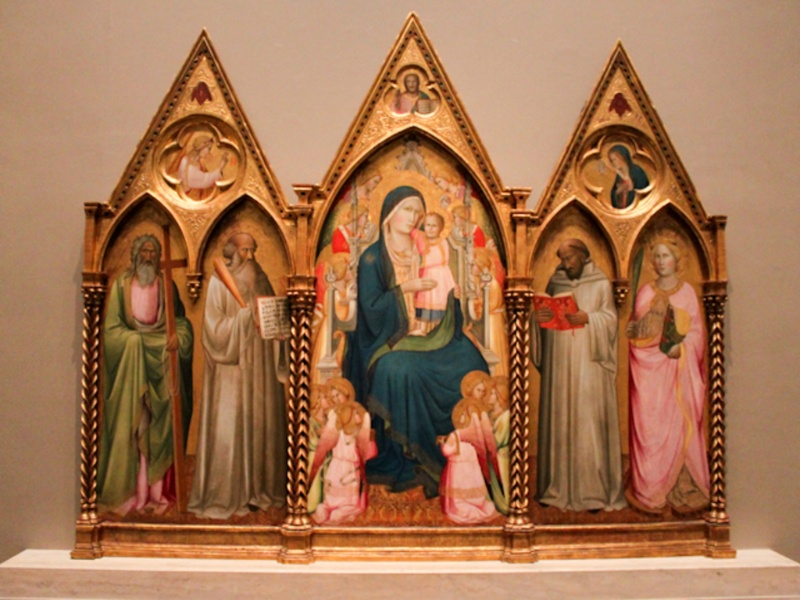person: (111, 231, 186, 517), (634, 237, 707, 504), (543, 236, 616, 495), (372, 183, 467, 381), (214, 225, 270, 524), (450, 367, 508, 524), (315, 376, 369, 519)
